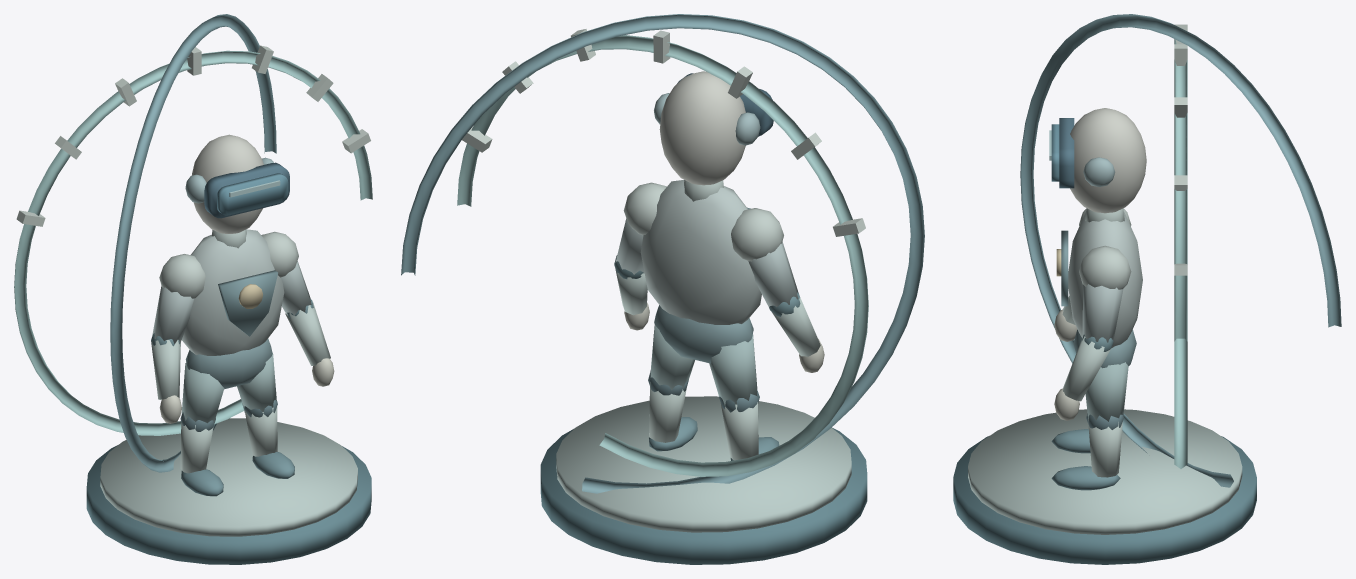
Rendered from ART-67.glb.
The picture shows the model from 3 angles, left to right: view 1: azimuth 30°, elevation 25°; view 2: azimuth 150°, elevation 25°; view 3: azimuth 270°, elevation 25°; orthographic projection. The views are drawn at different scales.
Visible parts, largest first — view 1: world; view 2: world; view 3: world.
Part boxes in pixels (<box>): world: <box>14,14,372,564</box>; world: <box>401,14,924,564</box>; world: <box>953,14,1341,564</box>.
Bounding box in the file's own units: 1.69 × 2 × 1.49.
